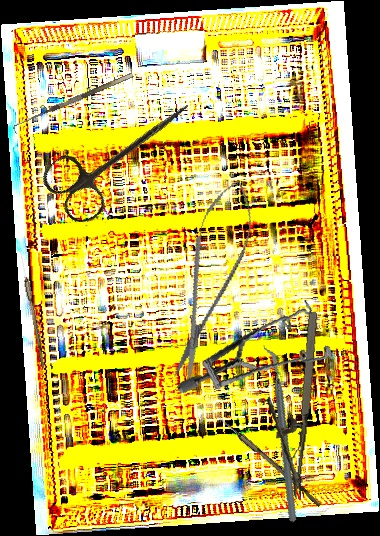Chopper: (216, 344, 344, 524)
Hook Surgical: (11, 72, 137, 135)
Iris Scissors: (36, 75, 208, 230)
Micro Scissor: (156, 172, 265, 387)
Needle Holder: (255, 307, 324, 501)
Speculum: (176, 281, 342, 419)
Surgical Spoon: (207, 408, 324, 507), (16, 248, 48, 368)
